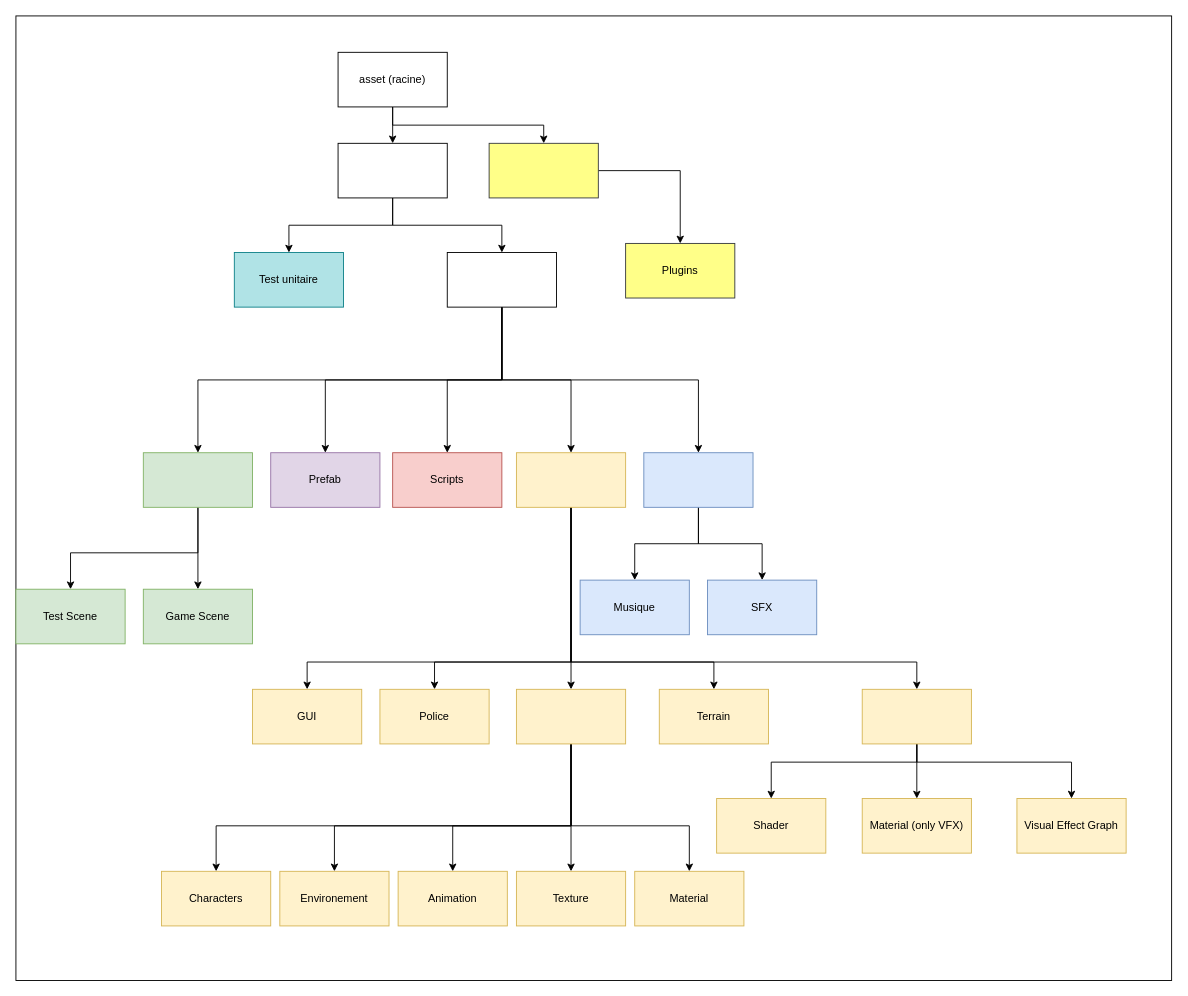
The diagram is 1188 pixels wide and 996 high, and some of its shapes have lost their labels. The shapes that lost their labels are listed below. From the top down, each one's centre as x and y in pixels, then its label:
At pixel 392 170: "App".
At pixel 543 170: "Element Asset Store".
At pixel 501 279: "Content".
At pixel 197 479: "Scene".
At pixel 571 479: "Visual".
At pixel 698 479: "Audio".
At pixel 571 716: "Model 3d".
At pixel 916 716: "VFX".
